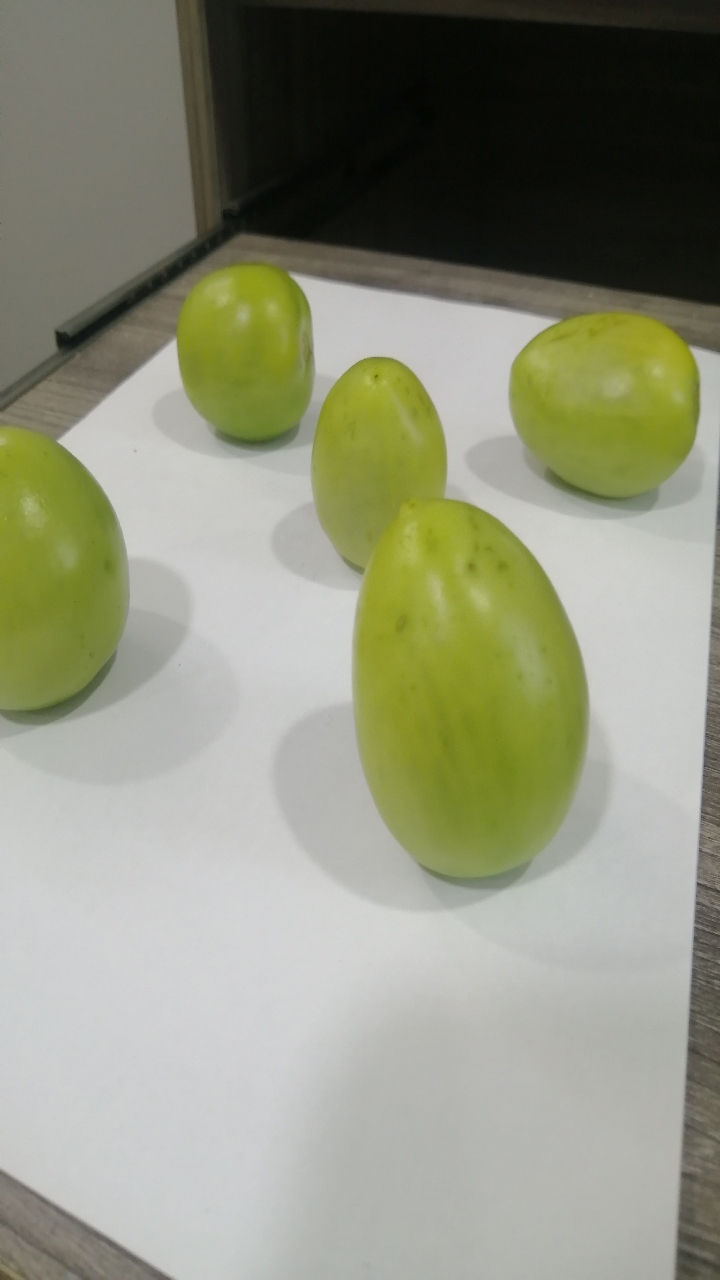tomateVerde: (321, 479, 604, 895), (284, 348, 478, 605), (495, 285, 708, 515), (169, 249, 331, 445)
